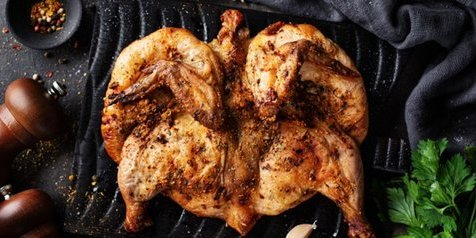Ayam: (105, 29, 383, 238)
